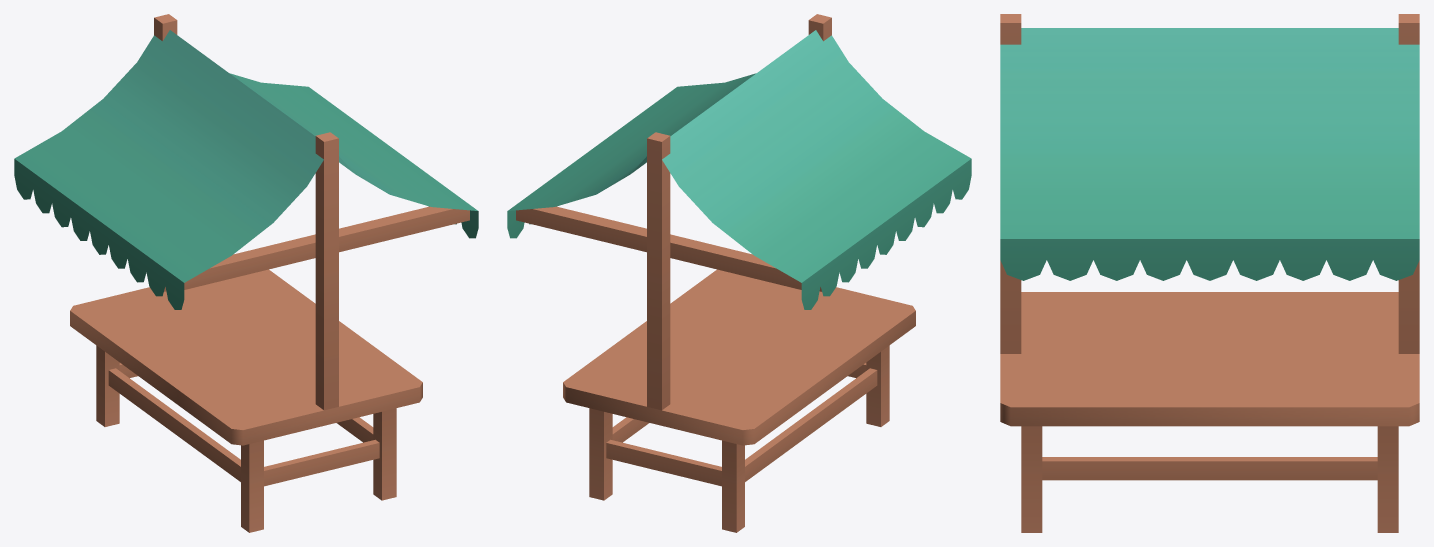
File: stall-green.glb
The picture shows the model from 3 angles, left to right: view 1: azimuth 30°, elevation 25°; view 2: azimuth 150°, elevation 25°; view 3: azimuth 270°, elevation 25°; orthographic projection. The views are drawn at different scales.
Parts seen in each view (by area): view 1: stall-green; view 2: stall-green; view 3: stall-green.
Part boxes in pixels (bbox=[...]): stall-green: bbox=[14, 14, 478, 532]; stall-green: bbox=[507, 14, 971, 532]; stall-green: bbox=[1000, 14, 1419, 532].
Size of the model in its own units: 1 by 1.24 by 1.
Materials: 1 (1 with a texture image).
